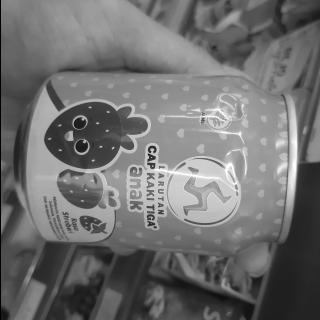alumunium_can: (17, 70, 300, 266)
